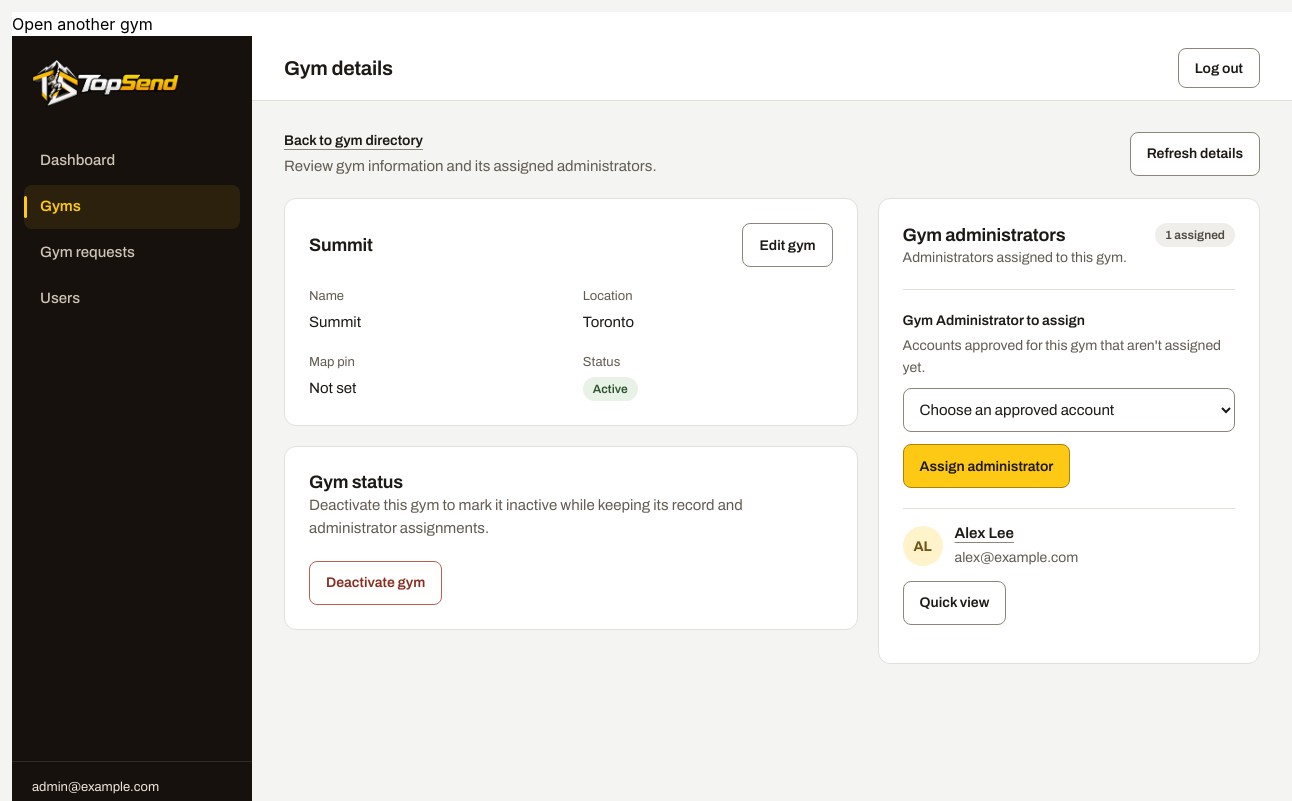
US-006 #36/#37, FR-003, AC-006 › takes an assigned account off the list straight away
Select "Jordan Smith (jordan@example.com)" in the dropdown labelled "Gym Administrator to assign": (1069, 410) top-left (903, 388), bottom-right (1235, 432)
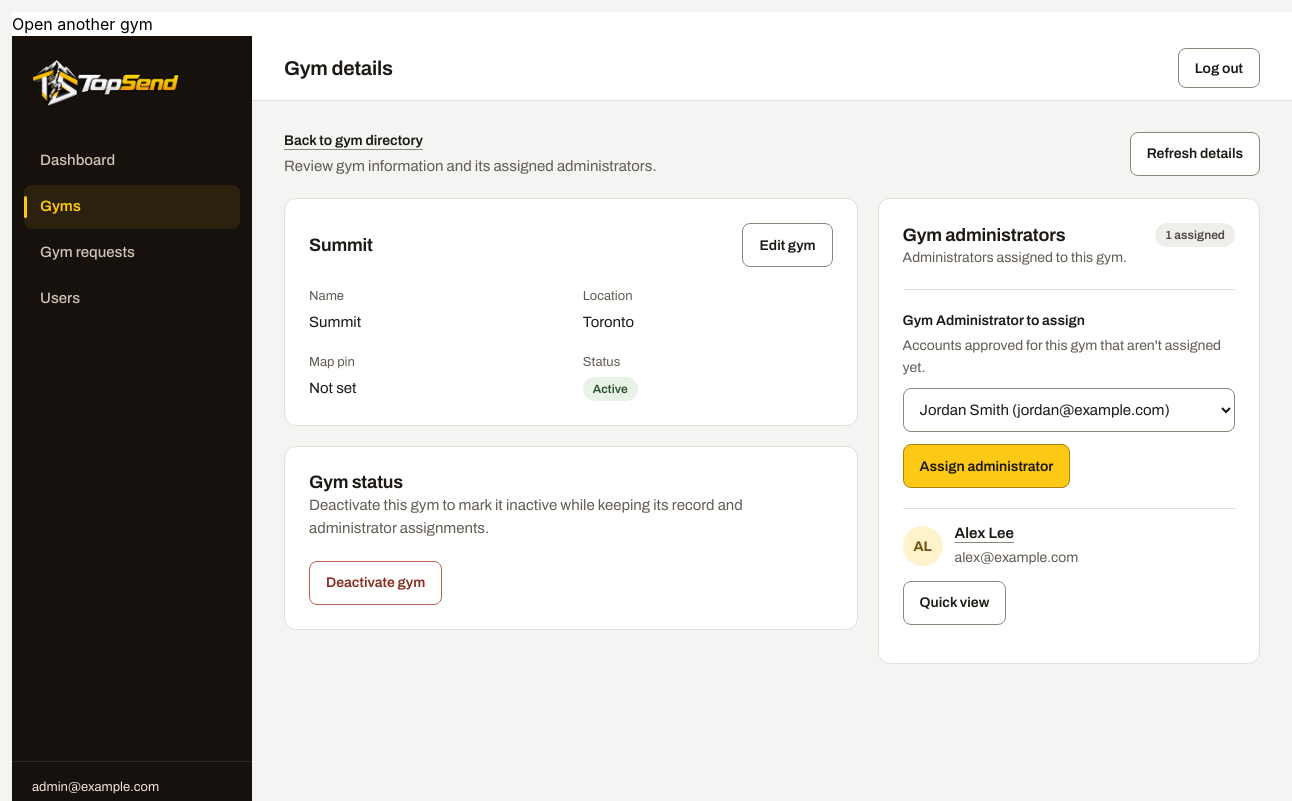
Submit the form named "Assign Gym Administrator", box top-left (903, 289), bottom-right (1235, 488)
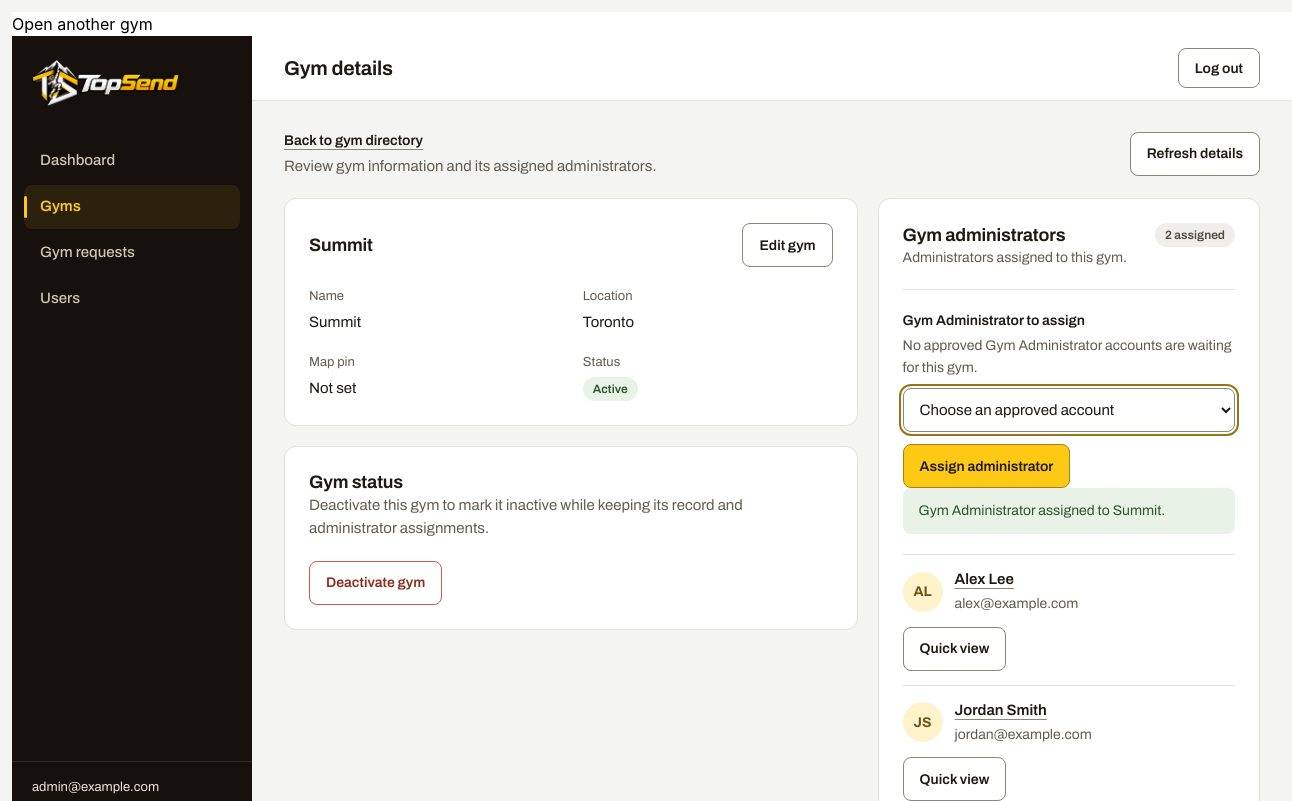
Check: the text "Gym Administrator assigned to Summit." is shown, box top-left (903, 488), bottom-right (1235, 534)
